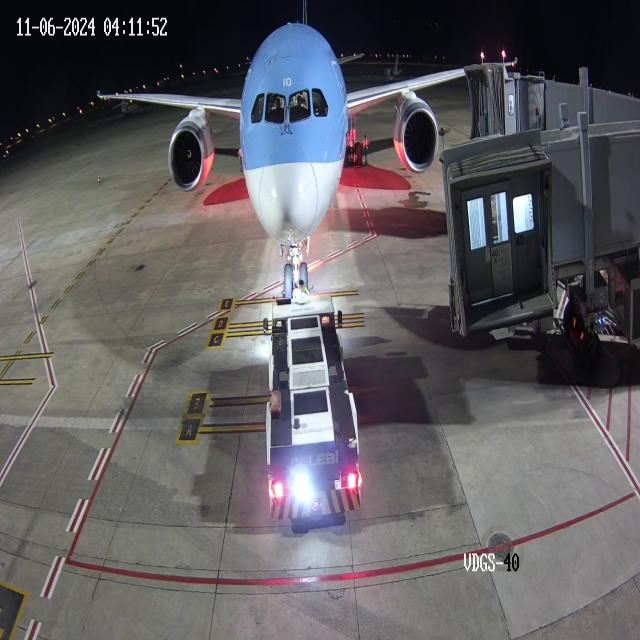bridge: (489, 56, 547, 144)
plane: (90, 10, 437, 298)
window: (246, 79, 334, 134)
